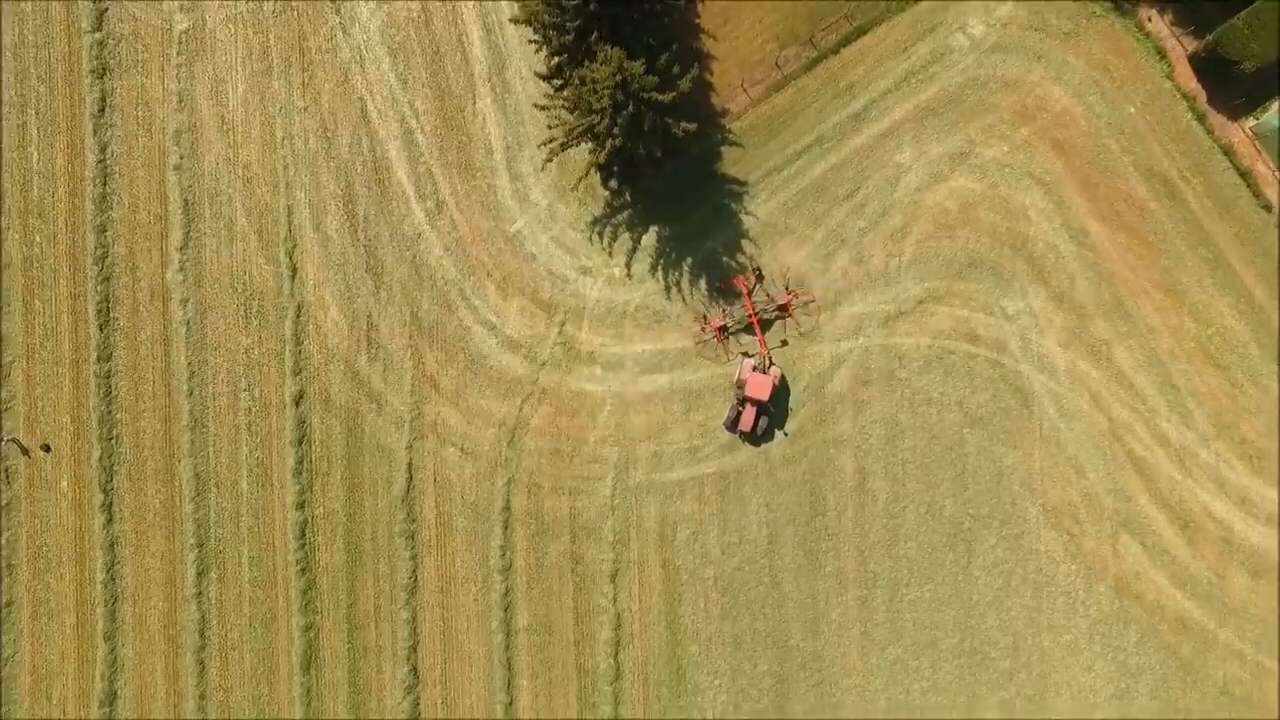traktor: (720, 355, 782, 441)
